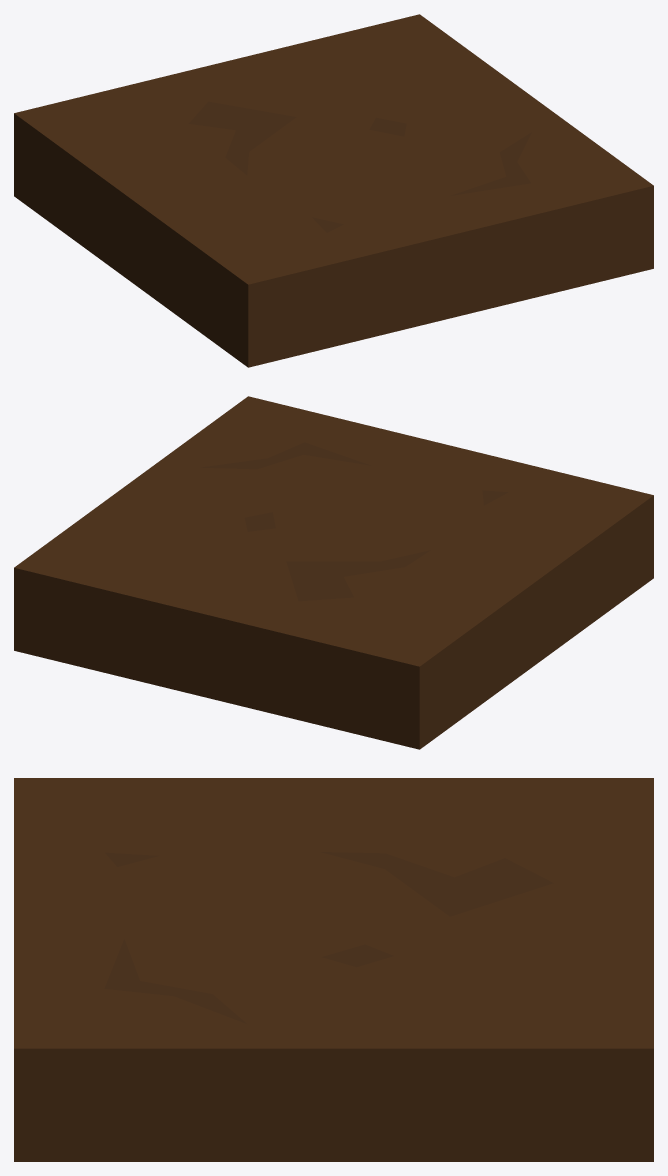
Rendered from Ground_1_4.obj.
3 renders of one model, top to bottom at view 1: azimuth 30°, elevation 25°; view 2: azimuth 150°, elevation 25°; view 3: azimuth 270°, elevation 25°, orthographic. The views are drawn at different scales.
Parts seen in each view (by area): view 1: Ground_1_4; view 2: Ground_1_4; view 3: Ground_1_4.
Boxes of the visible parts, bbox=[...] form: Ground_1_4: bbox=[14, 14, 653, 367]; Ground_1_4: bbox=[14, 396, 653, 749]; Ground_1_4: bbox=[14, 778, 653, 1161].
Size of the model in its own units: 2 by 0.3912 by 2.
